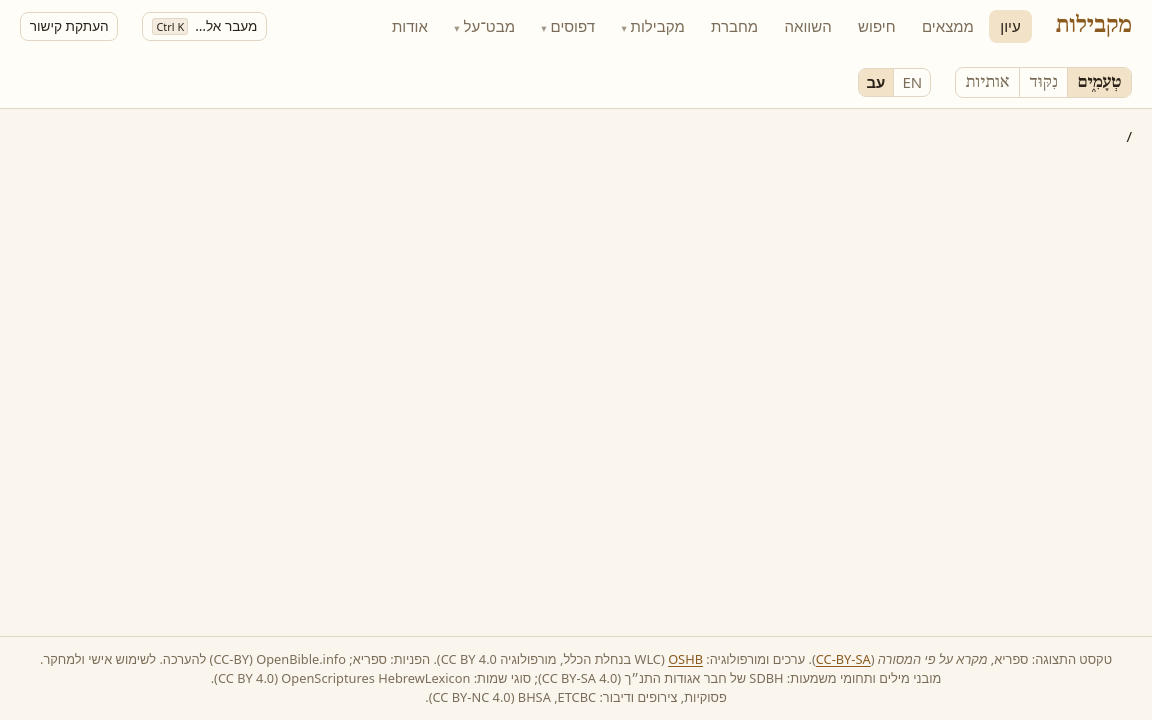
Test case: JumpBox › works in Hebrew
Click the button "מעבר אל… Ctrl K". click: (205, 26)
box: [142,12,267,41]
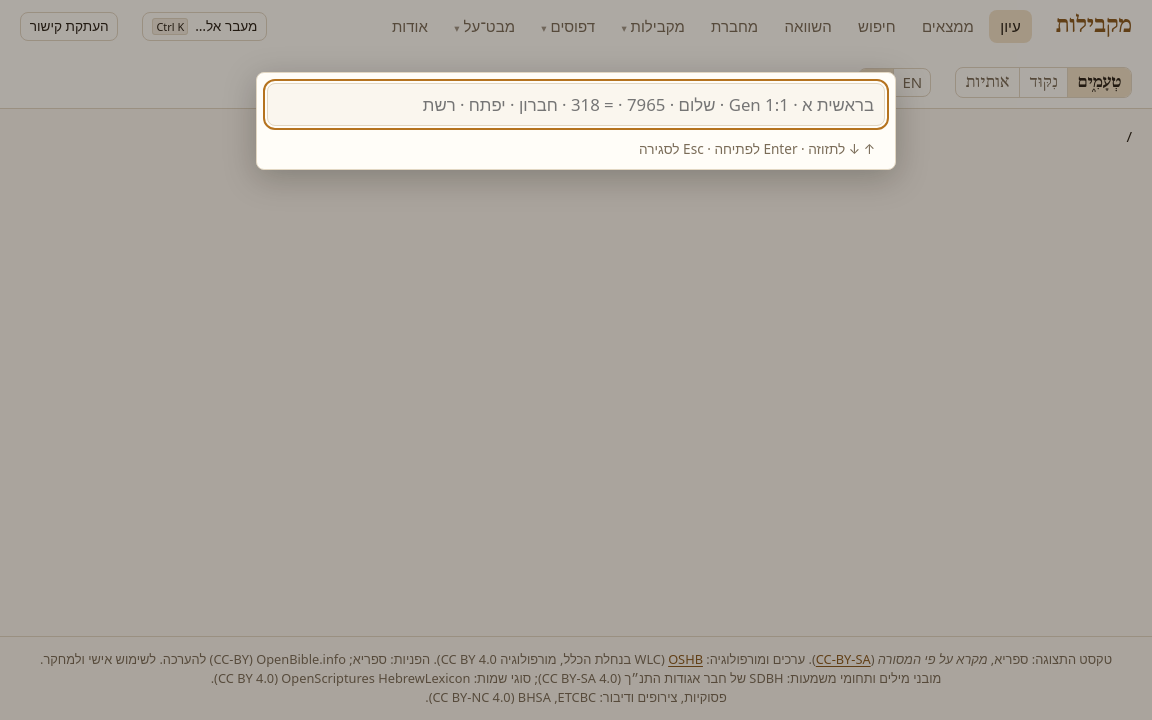
Replace the text in the dropdown named "מעבר אל קטע, מילה, מקום, אדם או עמוד" with "בראשית א א". click: (576, 104)
box: [267,83,885,126]
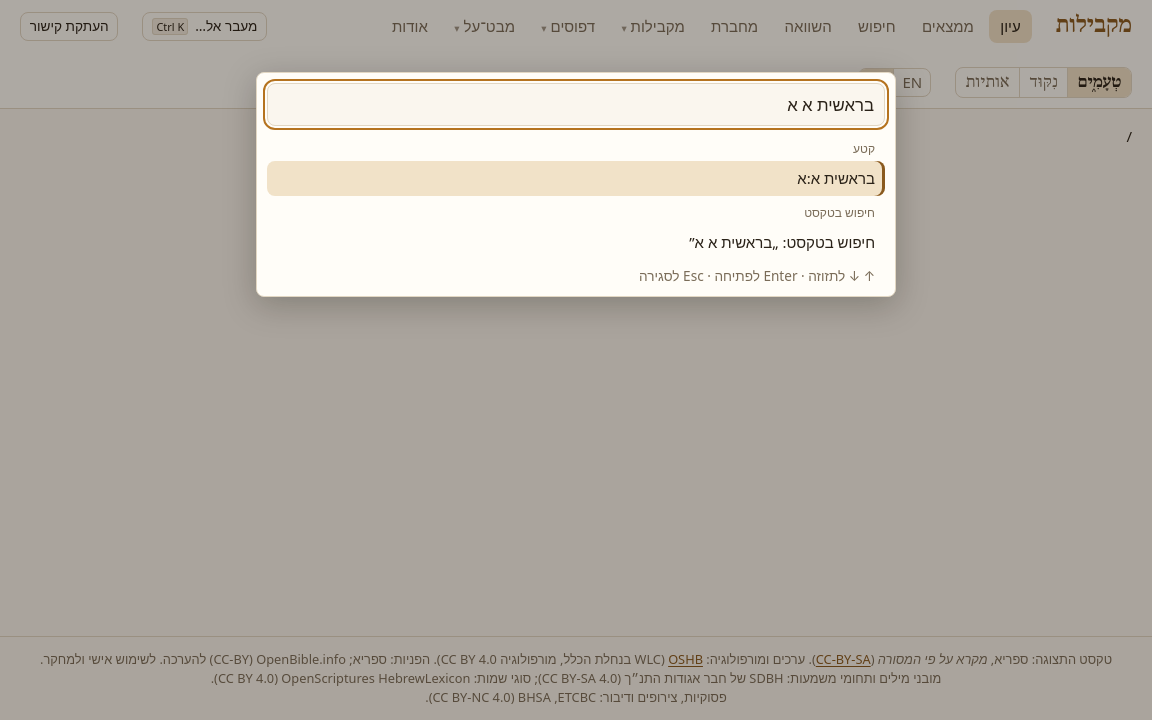
Click the option "בראשית א:א". click: (836, 178)
box: [267,161,885,196]
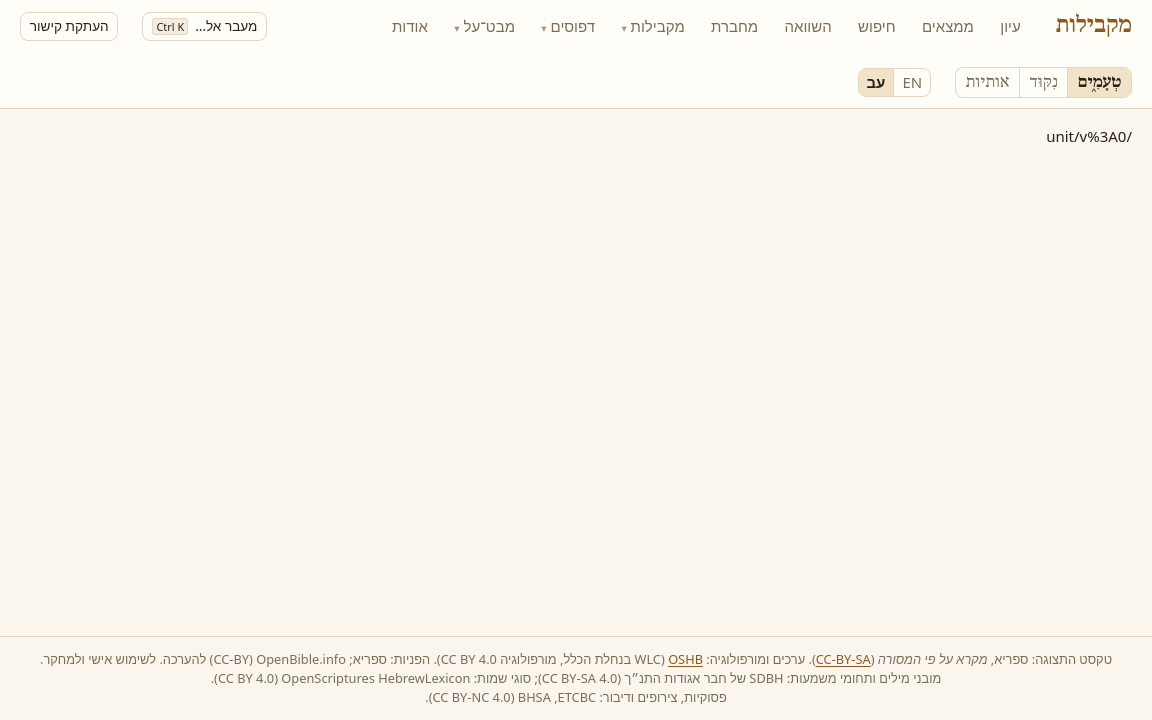
Expected: the text with test id "loc" reads "/unit/v%3A0", [1046,126,1132,146]
Click the button "מעבר אל… Ctrl K". click: (205, 26)
box: [142,12,267,41]
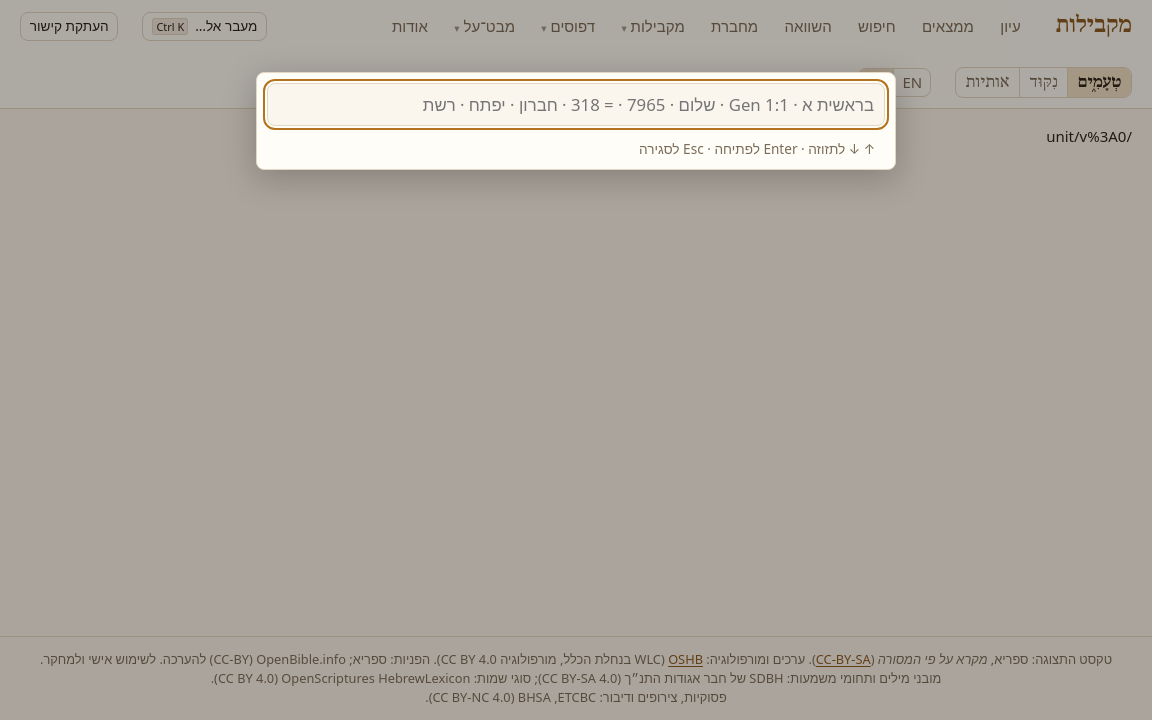
Replace the text in the dropdown named "מעבר אל קטע, מילה, מקום, אדם או עמוד" with "חברון". click: (576, 104)
box: [267,83,885,126]
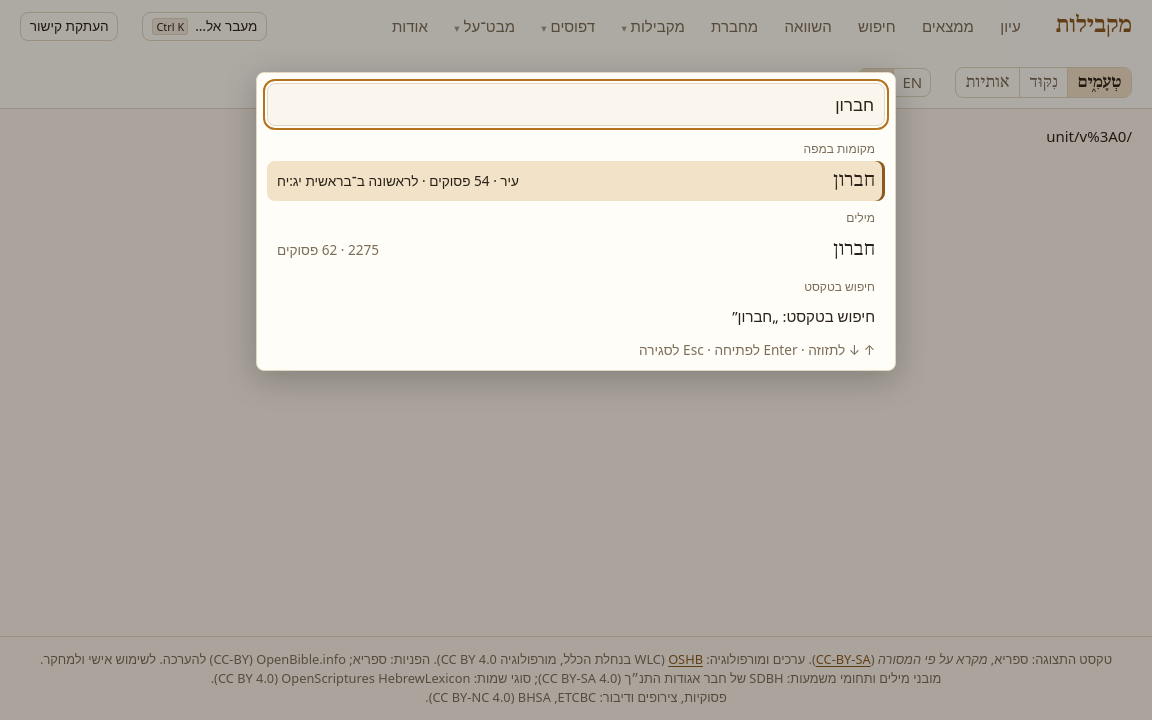
Expected: the option "חברון עיר · 54 פסוקים · לראשונה ב־בראשית יג:יח" is shown, [267,161,885,201]
Expected: the text "מקומות במפה" is shown, [804,140,875,157]
Replace the text in the dropdown named "מעבר אל קטע, מילה, מקום, אדם או עמוד" with "יפתח". click: (576, 104)
box: [267,83,885,126]
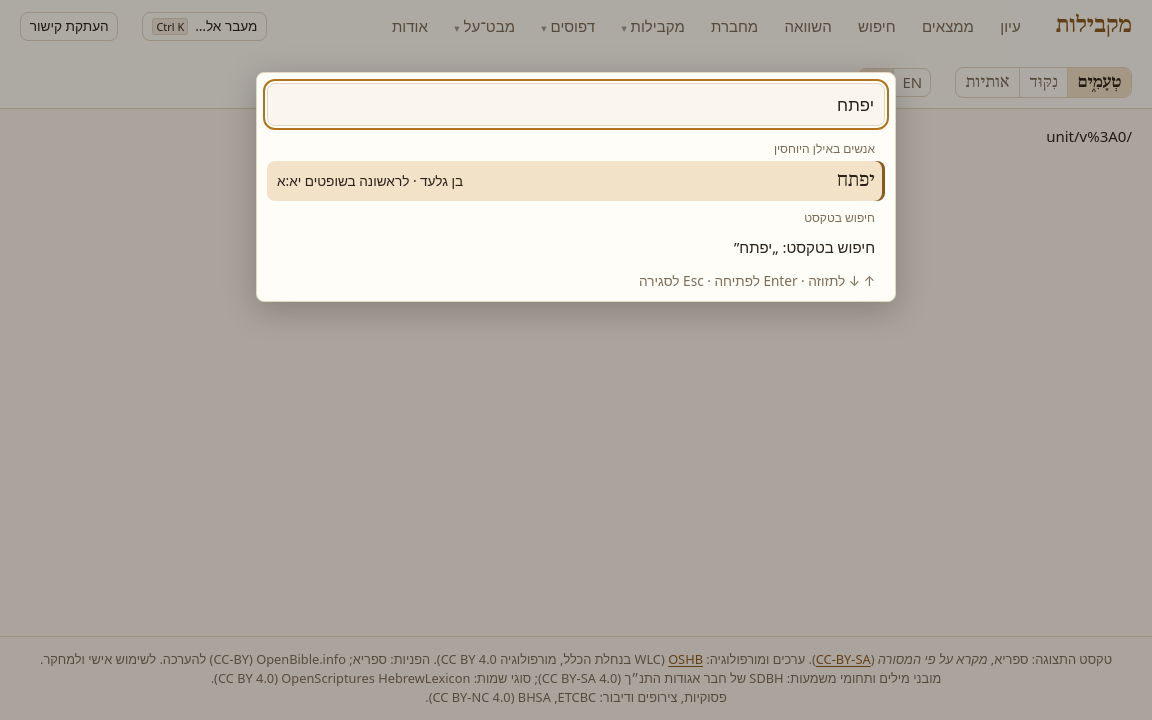
Expected: the option that starts with "יפתח" is shown, [267,161,885,201]
Expected: the text "אנשים באילן היוחסין" is shown, [774,140,875,157]
